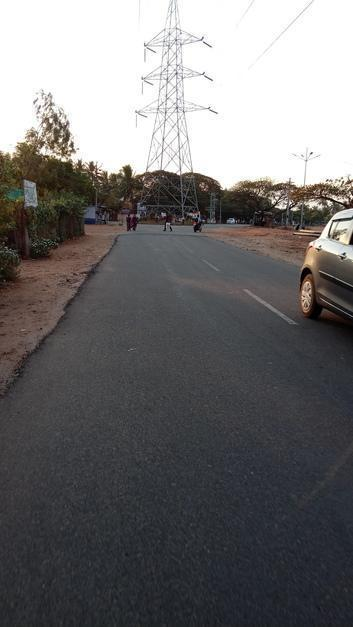speedbreaker: (115, 231, 211, 238)
